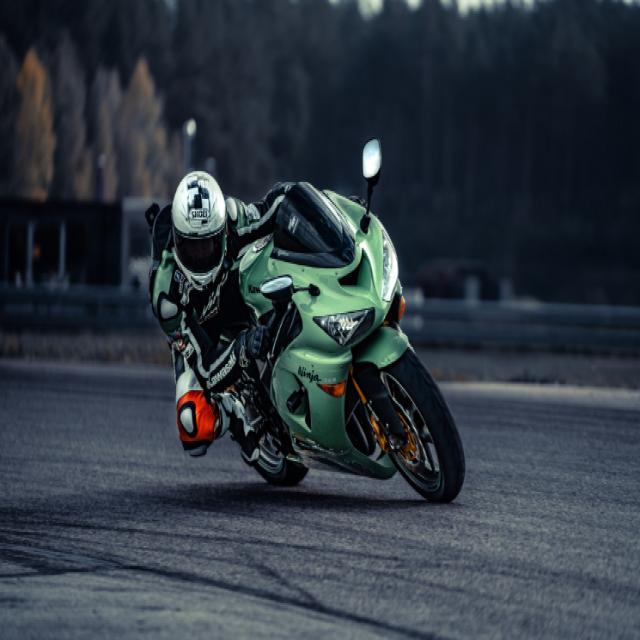motorcycle: (149, 171, 465, 500)
